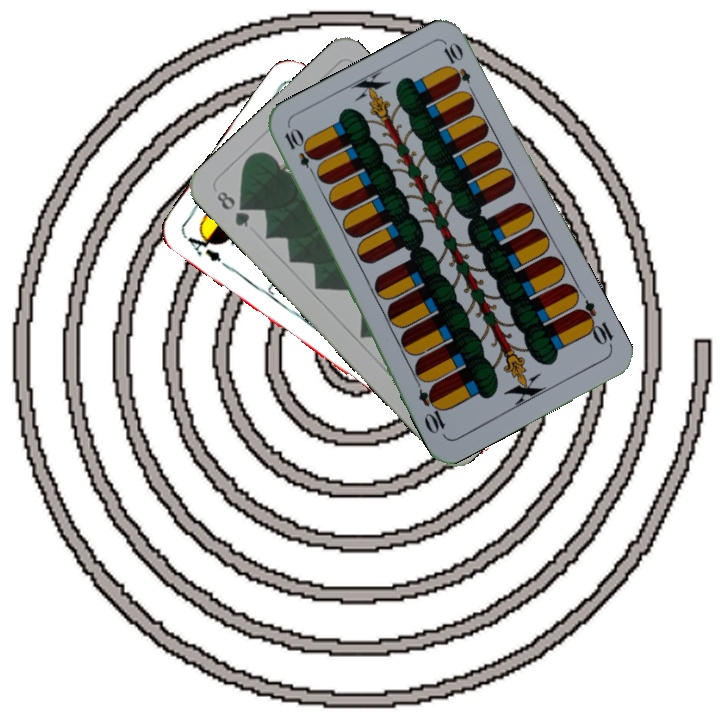E10: (572, 296, 616, 351), (280, 125, 321, 180)
EA: (180, 226, 224, 265)
G8: (212, 186, 253, 231)
